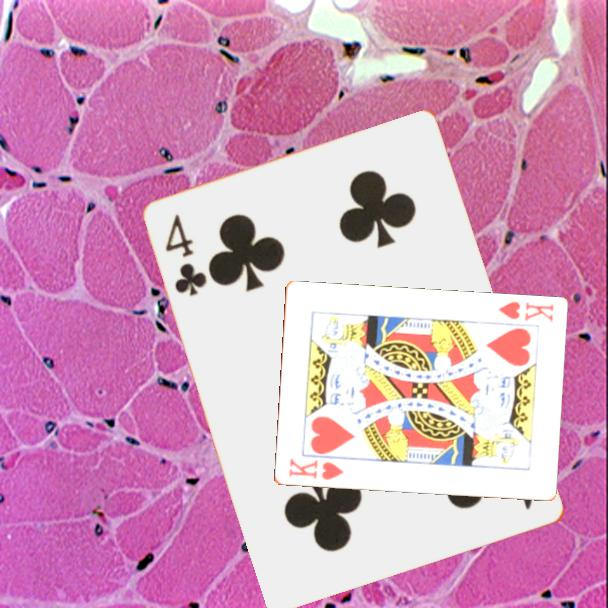c04: (162, 211, 209, 299)
h13: (285, 455, 346, 483), (495, 298, 556, 325)
